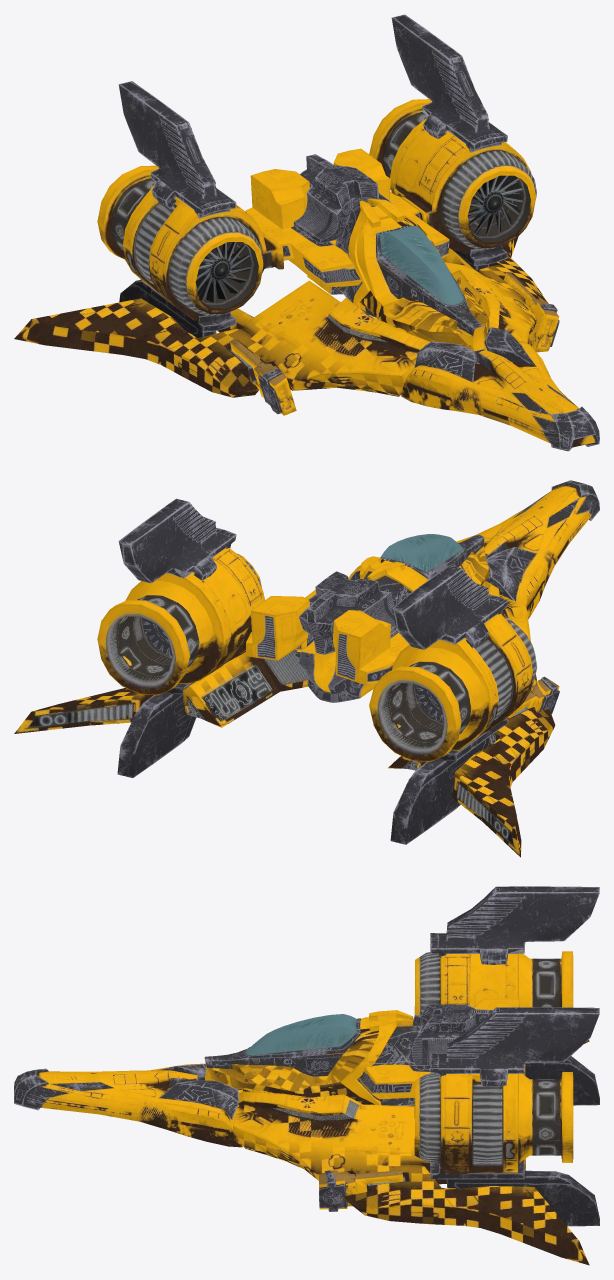
File: spaceship.glb
The picture shows the model from 3 angles, top to bottom: view 1: azimuth 30°, elevation 25°; view 2: azimuth 150°, elevation 25°; view 3: azimuth 270°, elevation 25°; orthographic projection. The views are drawn at different scales.
Visible parts, largest first — view 1: Wing_R_Wing_0, Booster_Turbine_R_Booster_Turbine_0, Cockpit_Cockpit_0, Booster_Turbine_L_Booster_Turbine_0, Ship_Nose_Ship_Nose_0, Turbine_Fin_Top_L_Turbine_Fin_Top_0, Turbine_Fin_Top_R_Turbine_Fin_Top_0, Turbine_Link_R_Turbine_Link_0, Wing_L_Wing_0, Engine_A_Engine_A_0, Turbine_Link_L_Turbine_Link_0, Turbine_Fan_R_Turbine_Fan_0 (+5 smaller); view 2: Booster_Turbine_R_Booster_Turbine_0, Booster_Turbine_L_Booster_Turbine_0, Wing_L_Wing_0, Ship_Nose_Ship_Nose_0, Wing_R_Wing_0, Turbine_Fin_Top_L_Turbine_Fin_Top_0, Turbine_Fin_Top_R_Turbine_Fin_Top_0, Cockpit_Cockpit_0, Turbine_Fin_Bottom_R_Turbine_Fin_Bottom_0, Turbine_Fin_Bottom_L_Turbine_Fin_Bottom_0, Turbine_Link_R_Turbine_Link_0, Engine_A_Engine_A_0 (+5 smaller); view 3: Wing_L_Wing_0, Booster_Turbine_L_Booster_Turbine_0, Cockpit_Cockpit_0, Ship_Nose_Ship_Nose_0, Turbine_Fin_Top_R_Turbine_Fin_Top_0, Turbine_Fin_Top_L_Turbine_Fin_Top_0, Booster_Turbine_R_Booster_Turbine_0, Turbine_Fin_Bottom_L_Turbine_Fin_Bottom_0, Engine_A_Engine_A_0, Gun_L_Gun_0, Turbine_Link_L_Turbine_Link_0, Turbine_Fin_Bottom_R_Turbine_Fin_Bottom_0.
Part boxes in pixels (x1,y1,x2,y2): Wing_R_Wing_0: [14, 280, 430, 397]; Booster_Turbine_R_Booster_Turbine_0: [97, 165, 283, 320]; Cockpit_Cockpit_0: [335, 198, 489, 363]; Booster_Turbine_L_Booster_Turbine_0: [369, 99, 536, 254]; Ship_Nose_Ship_Nose_0: [401, 327, 599, 451]; Turbine_Fin_Top_L_Turbine_Fin_Top_0: [391, 14, 507, 152]; Turbine_Fin_Top_R_Turbine_Fin_Top_0: [118, 81, 236, 218]; Turbine_Link_R_Turbine_Link_0: [245, 169, 361, 287]; Wing_L_Wing_0: [442, 236, 546, 342]; Engine_A_Engine_A_0: [293, 154, 390, 243]; Turbine_Link_L_Turbine_Link_0: [333, 148, 449, 258]; Turbine_Fan_R_Turbine_Fan_0: [195, 242, 250, 302]; Booster_Turbine_R_Booster_Turbine_0: [369, 613, 537, 761]; Booster_Turbine_L_Booster_Turbine_0: [97, 548, 264, 695]; Wing_L_Wing_0: [14, 649, 307, 733]; Ship_Nose_Ship_Nose_0: [456, 480, 599, 619]; Wing_R_Wing_0: [388, 581, 555, 857]; Turbine_Fin_Top_L_Turbine_Fin_Top_0: [118, 498, 236, 583]; Turbine_Fin_Top_R_Turbine_Fin_Top_0: [392, 565, 508, 649]; Cockpit_Cockpit_0: [348, 534, 489, 604]; Turbine_Fin_Bottom_R_Turbine_Fin_Bottom_0: [390, 717, 508, 844]; Turbine_Fin_Bottom_L_Turbine_Fin_Bottom_0: [117, 657, 234, 777]; Turbine_Link_R_Turbine_Link_0: [333, 610, 408, 684]; Engine_A_Engine_A_0: [299, 571, 396, 654]; Wing_L_Wing_0: [233, 1091, 589, 1265]; Booster_Turbine_L_Booster_Turbine_0: [414, 1072, 573, 1174]; Cockpit_Cockpit_0: [204, 1010, 423, 1106]; Ship_Nose_Ship_Nose_0: [14, 1063, 243, 1147]; Turbine_Fin_Top_R_Turbine_Fin_Top_0: [430, 886, 599, 964]; Turbine_Fin_Top_L_Turbine_Fin_Top_0: [430, 1007, 599, 1086]; Booster_Turbine_R_Booster_Turbine_0: [414, 951, 573, 1014]; Turbine_Fin_Bottom_L_Turbine_Fin_Bottom_0: [430, 1159, 599, 1226]; Engine_A_Engine_A_0: [412, 1004, 492, 1069]; Gun_L_Gun_0: [319, 1170, 403, 1211]; Turbine_Link_L_Turbine_Link_0: [359, 1064, 430, 1099]; Turbine_Fin_Bottom_R_Turbine_Fin_Bottom_0: [525, 1056, 599, 1105].
Size of the model in its own units: 616 by 273 by 680.
12 materials, 12 textured.
